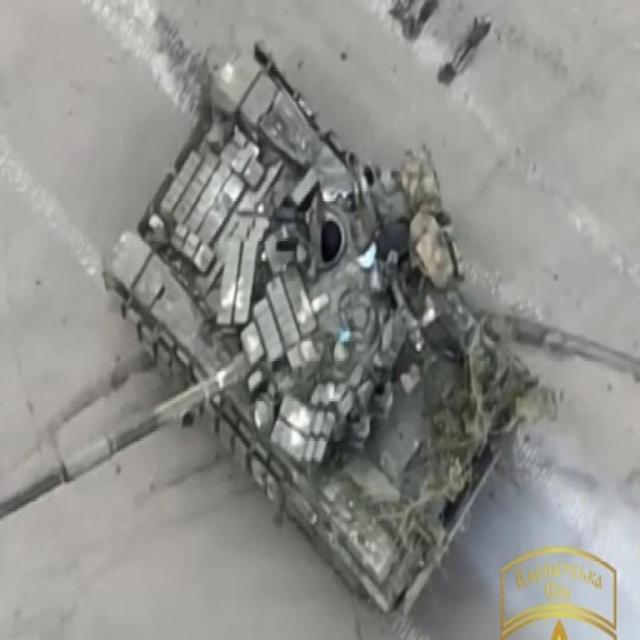TANK: (0, 29, 532, 618)
